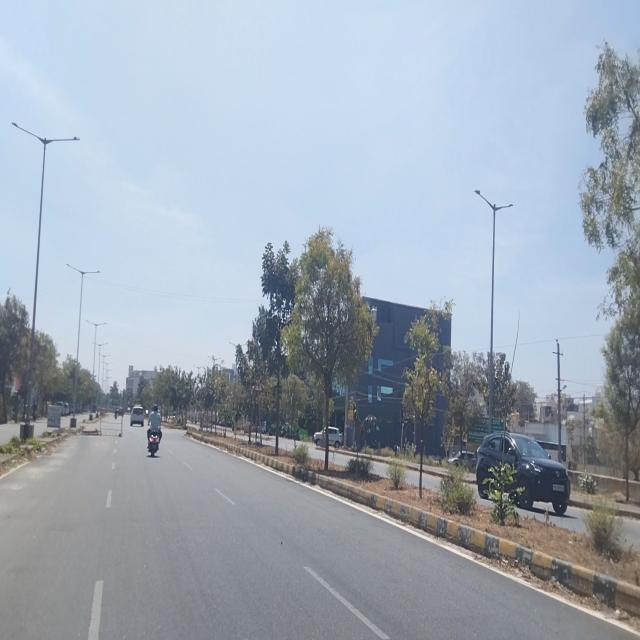bien_cam: (255, 377, 263, 393)
